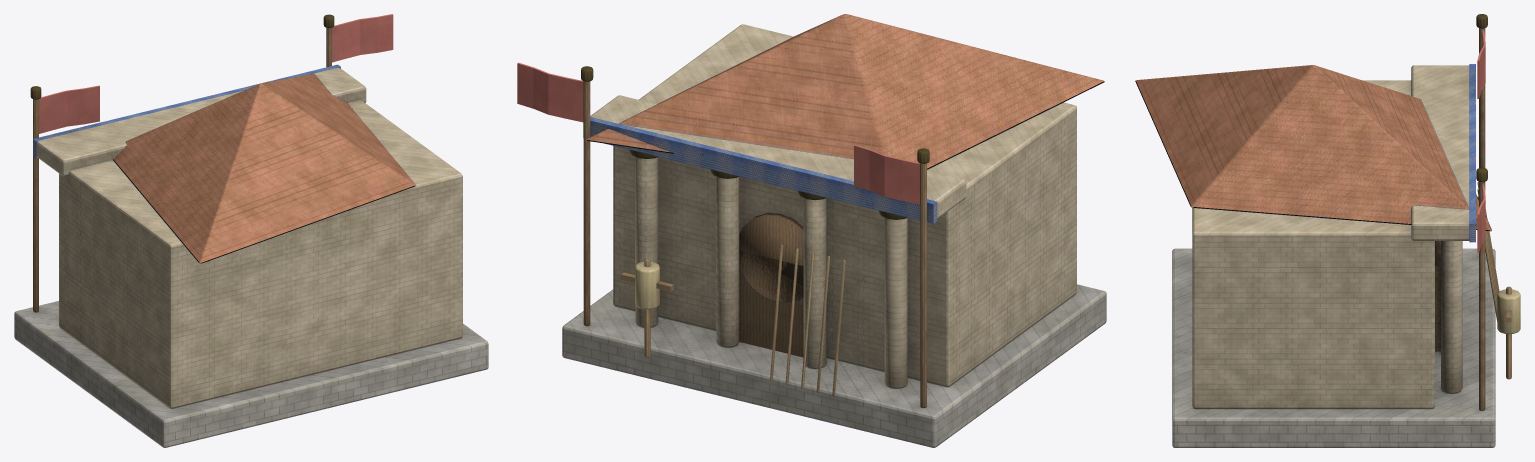
The model's file is barracks_turan.glb.
3 views of the same model, side by side, from view 1: azimuth 30°, elevation 25°; view 2: azimuth 150°, elevation 25°; view 3: azimuth 270°, elevation 25° (orthographic). The views are drawn at different scales.
Parts seen in each view (by area): view 1: barracks_turan; view 2: barracks_turan; view 3: barracks_turan.
Boxes of the visible parts, x1=… form: barracks_turan: x1=14, y1=14, x2=488, y2=447; barracks_turan: x1=517, y1=14, x2=1106, y2=447; barracks_turan: x1=1135, y1=14, x2=1520, y2=447.
Size of the model in its own units: 6.84 by 4.89 by 5.73.
1 material, 1 textured.
